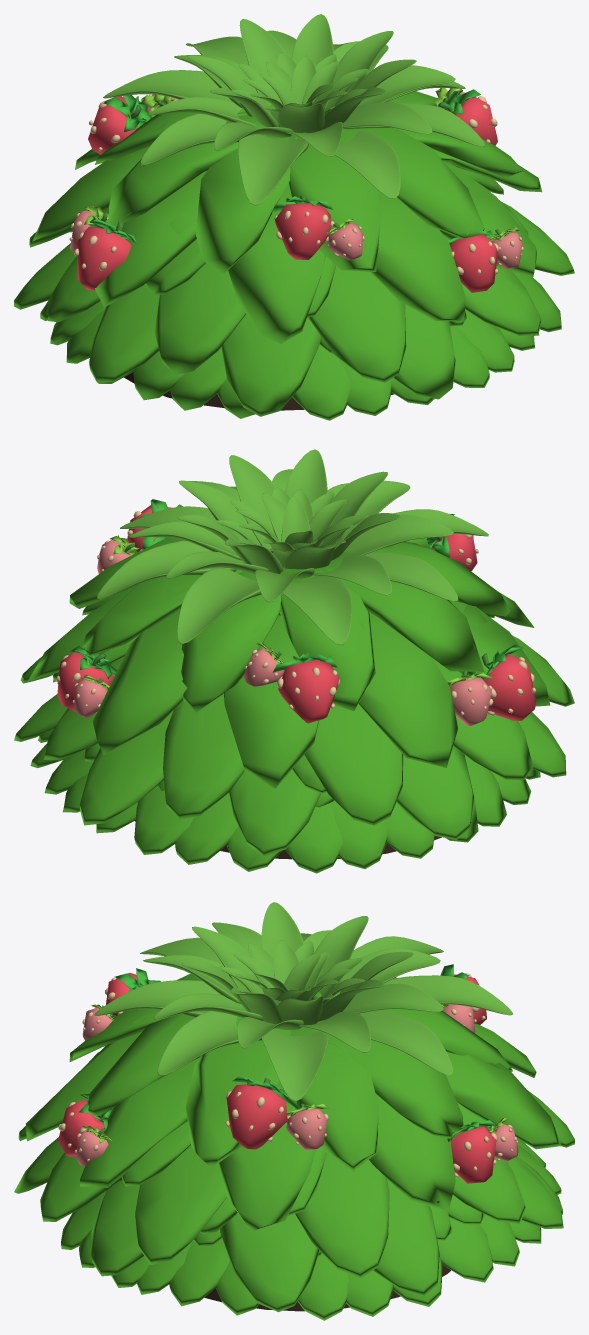
File: BerryBush2000kb.fbx
3 views of the same model, one above another, from view 1: azimuth 30°, elevation 25°; view 2: azimuth 150°, elevation 25°; view 3: azimuth 270°, elevation 25° (orthographic).
Parts seen in each view (by area): view 1: Cube.011, Cube.001, Cube.003, Cube.047, Cube.002, Cube.005, leaf.004, leaf.002, Cube.006, leaf.006, Cube.013, leaf.010 (+24 smaller); view 2: Cube.011, Cube.001, Cube.003, Cube.002, Cube.047, Cube.048, Cube.012, leaf.006, Cube.013, leaf.002, Cube.010, Cube.016 (+26 smaller); view 3: Cube.011, Cube.001, Cube.003, Cube.047, Cube.002, Cube.048, leaf, Cube.004, Cube.010, Cube.007, leaf.008, Cube.012 (+27 smaller).
Boxes of the visible parts, x1,y1,x2,y2 form: Cube.011: (32, 91, 542, 343); Cube.001: (29, 160, 574, 382); Cube.003: (14, 230, 561, 416); Cube.047: (50, 301, 539, 420); Cube.002: (66, 309, 514, 415); Cube.005: (238, 134, 308, 205); leaf.004: (272, 196, 334, 259); leaf.002: (74, 218, 137, 290); Cube.006: (334, 130, 400, 198); leaf.006: (88, 95, 150, 154); Cube.013: (103, 70, 230, 100); leaf.010: (448, 229, 498, 292); Cube.011: (27, 537, 550, 788); Cube.001: (20, 592, 574, 825); Cube.003: (14, 664, 566, 857); Cube.002: (38, 729, 506, 868); Cube.047: (44, 749, 540, 873); Cube.048: (30, 743, 531, 871); Cube.012: (177, 567, 261, 644); leaf.006: (272, 653, 339, 723); Cube.013: (282, 575, 351, 645); leaf.002: (473, 644, 536, 720); Cube.010: (96, 540, 236, 599); Cube.016: (338, 514, 453, 555); Cube.011: (26, 974, 561, 1231); Cube.001: (18, 1052, 574, 1278); Cube.003: (14, 1137, 563, 1312); Cube.047: (61, 1156, 562, 1320); Cube.002: (79, 1144, 561, 1316); Cube.048: (111, 1138, 545, 1315); leaf: (225, 1075, 298, 1149); Cube.004: (261, 1029, 328, 1101); Cube.010: (359, 1010, 453, 1075); Cube.007: (157, 1011, 261, 1075); leaf.008: (447, 1120, 497, 1183); Cube.012: (385, 975, 512, 1015).
Size of the model in its own units: 184 by 102 by 185.
